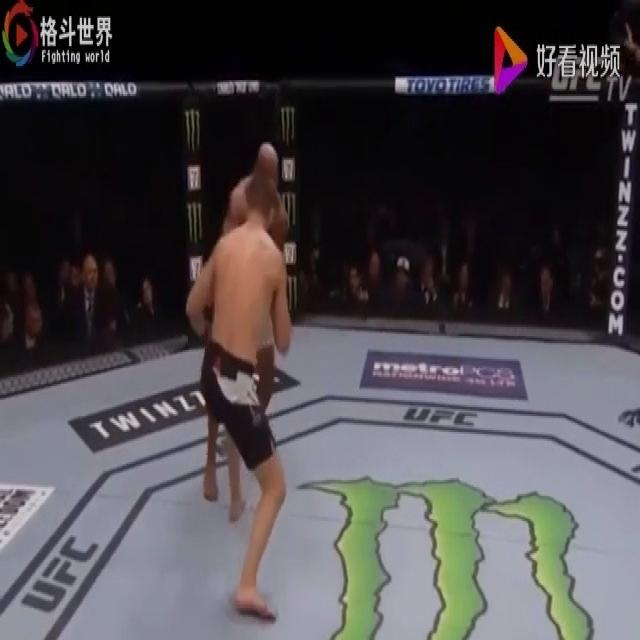fight: (178, 137, 307, 627)
